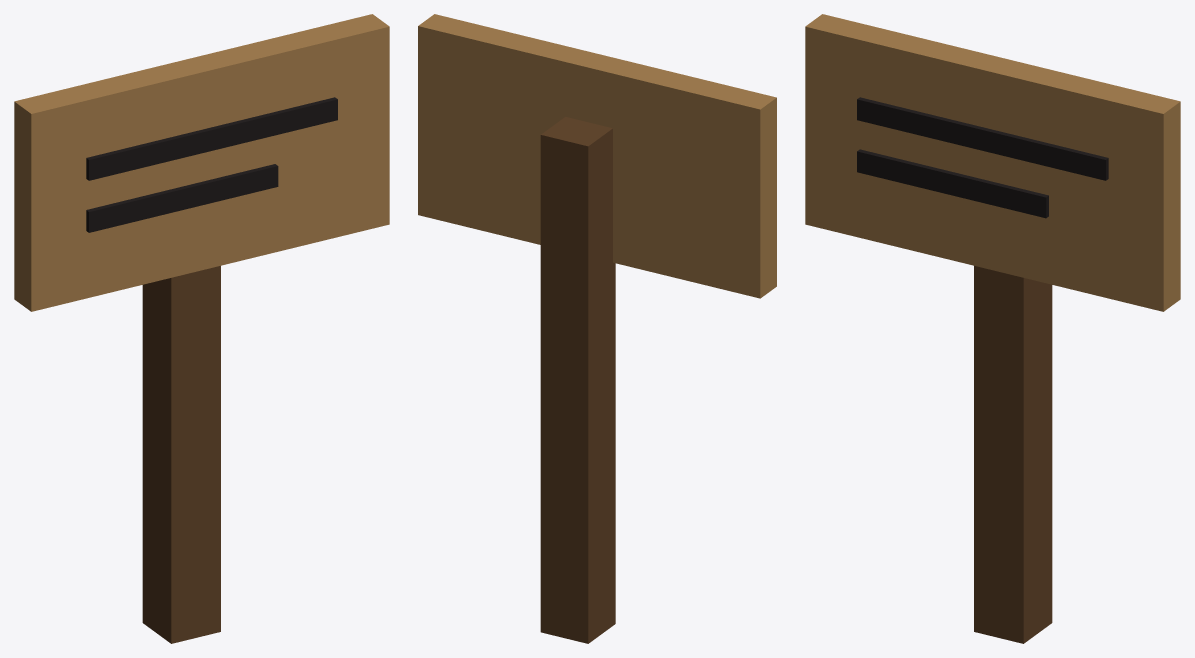
File: signpost.obj
3 views of the same model, side by side, from view 1: azimuth 30°, elevation 25°; view 2: azimuth 150°, elevation 25°; view 3: azimuth 330°, elevation 25° (orthographic). The views are drawn at different scales.
Parts seen in each view (by area): view 1: part_1, part_0, part_2, part_3; view 2: part_1, part_0; view 3: part_1, part_0, part_2, part_3.
Part boxes in pixels (box(x1,y1,x2,y2)): part_1: box(14, 14, 389, 311); part_0: box(142, 266, 220, 643); part_2: box(86, 97, 337, 180); part_3: box(86, 164, 278, 232); part_1: box(418, 14, 776, 298); part_0: box(540, 117, 615, 643); part_1: box(805, 14, 1180, 311); part_0: box(974, 266, 1052, 643); part_2: box(857, 97, 1108, 180); part_3: box(857, 149, 1048, 218).
Size of the model in its own units: 0.72 by 1.11 by 0.16.
